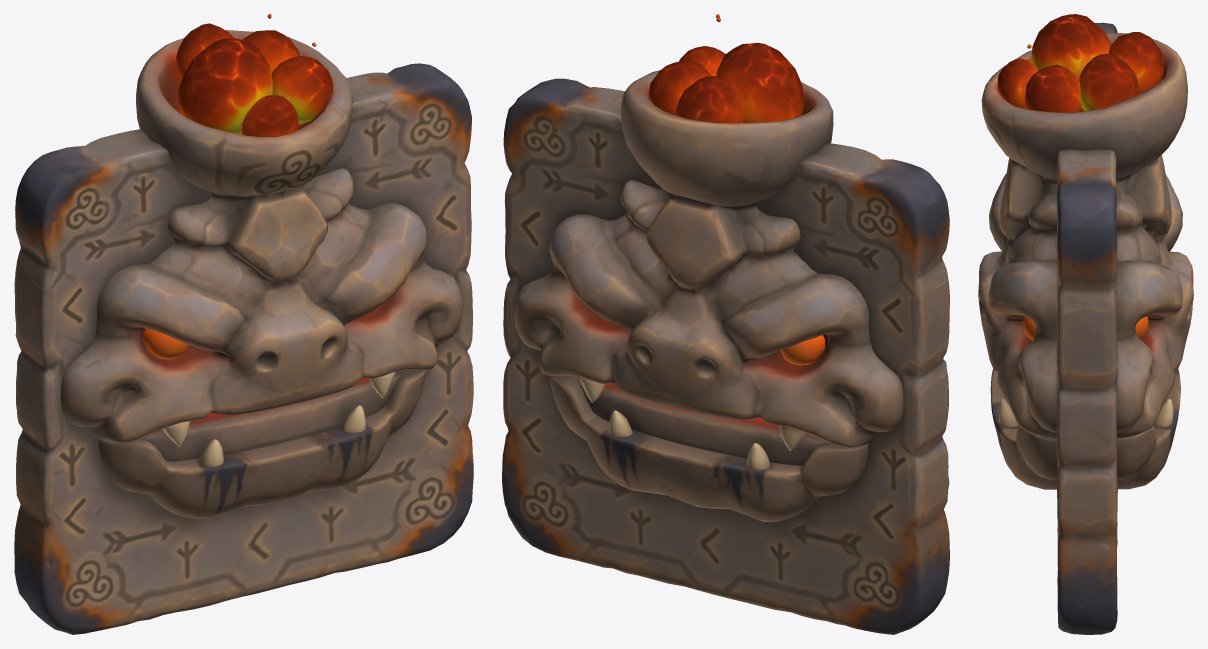
Rendered from trampa_flechas.glb.
The picture shows the model from 3 angles, left to right: view 1: azimuth 30°, elevation 25°; view 2: azimuth 150°, elevation 25°; view 3: azimuth 270°, elevation 25°; orthographic projection. The views are drawn at different scales.
Visible parts, largest first — view 1: geometry_0; view 2: geometry_0; view 3: geometry_0.
Boxes of the visible parts, <box> form: geometry_0: <box>14,14,473,634</box>; geometry_0: <box>502,14,949,634</box>; geometry_0: <box>978,14,1193,634</box>.
Bounding box in the file's own units: 0.7952 × 1 × 0.3628.
1 material, 1 textured.
